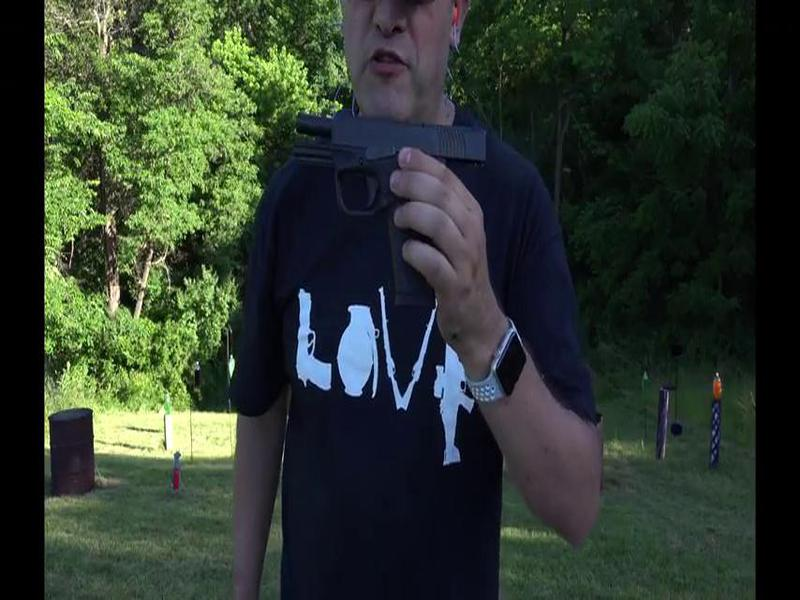Pistola: (277, 93, 505, 294)
